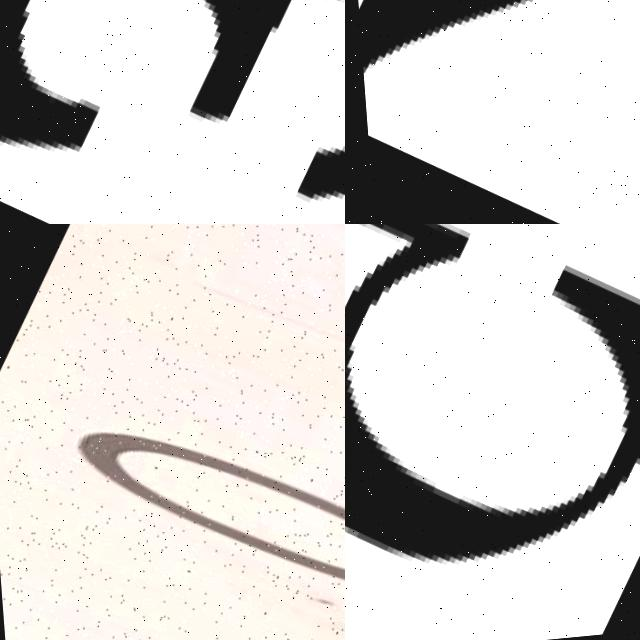0: (29, 347, 345, 640)
5: (345, 224, 640, 640), (0, 557, 239, 640)
Y: (345, 0, 640, 224)
